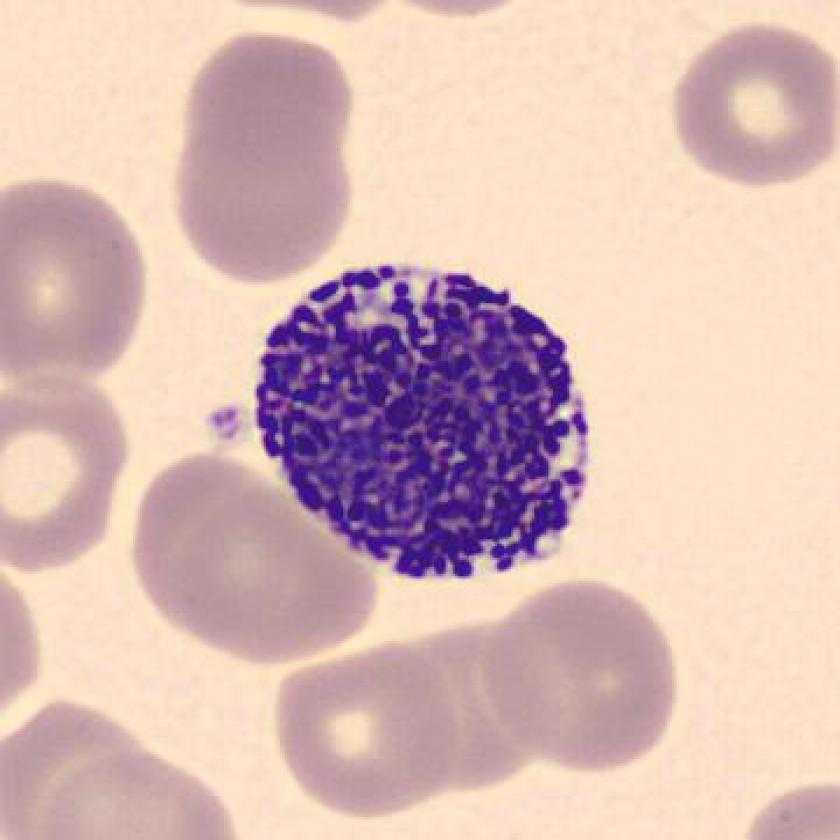basophil: (242, 253, 613, 584)
